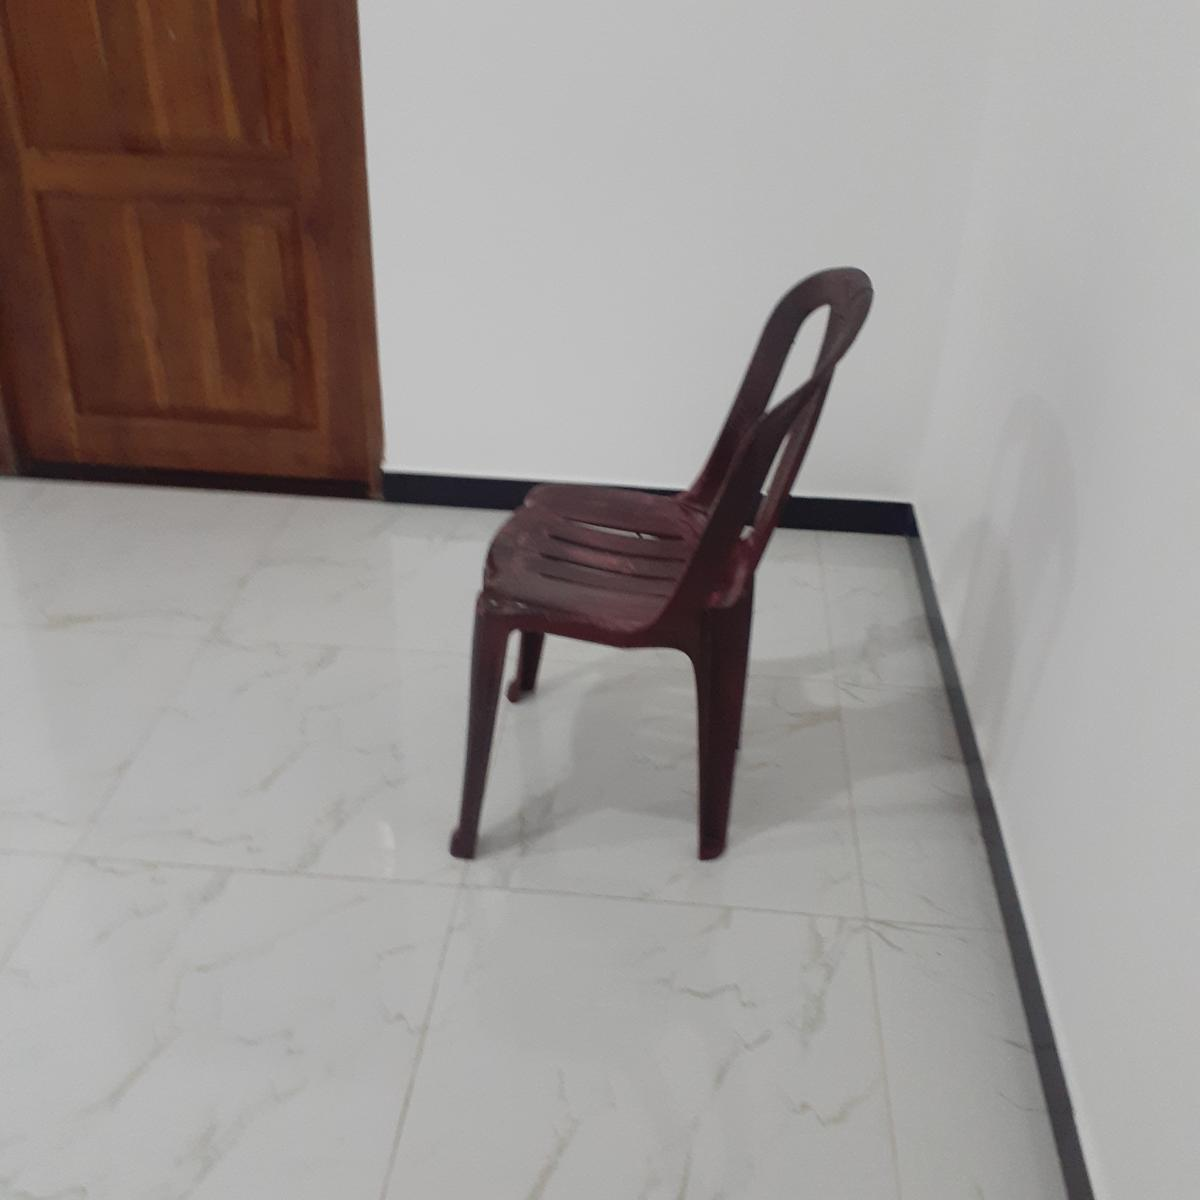Chair: (448, 265, 872, 865)
